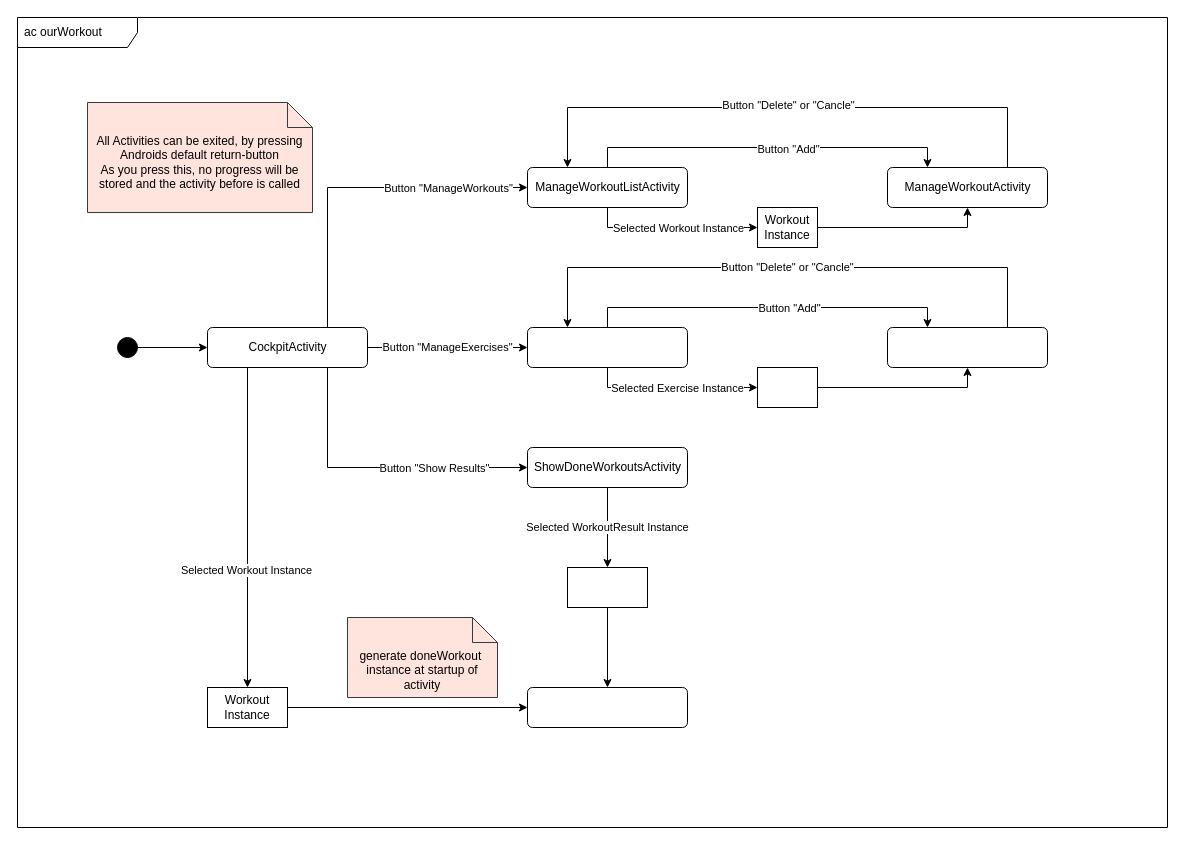
Some shapes in this 1185 by 845 pixel diagram are drawn without their labels. Each missing label, with the box of its shape:
doneWorkout Instance: (566, 566, 648, 608)
Exercise Instance: (756, 366, 818, 408)
ExerciseActivity: (886, 326, 1048, 368)
ExerciseListActivity: (526, 326, 688, 368)
WorkoutActivity: (526, 686, 688, 728)
